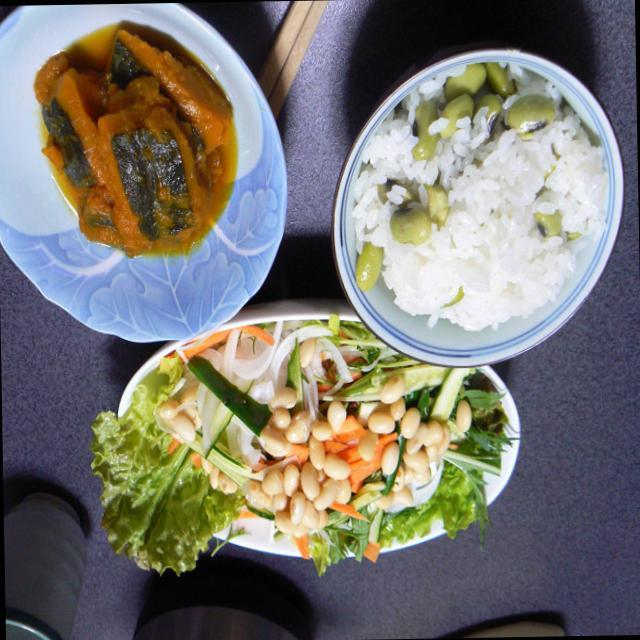Green Salad: (113, 338, 505, 567)
Rice: (342, 49, 618, 356)
